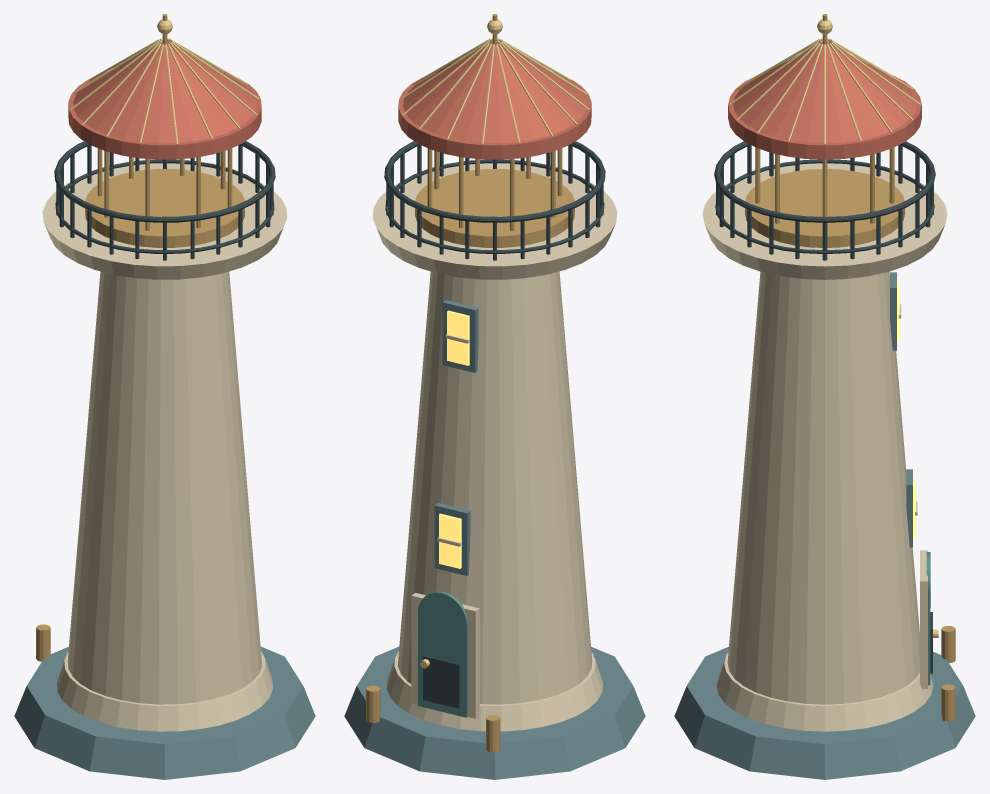
The model's file is harbor-lighthouse.glb.
3 views of the same model, side by side, from view 1: azimuth 30°, elevation 25°; view 2: azimuth 150°, elevation 25°; view 3: azimuth 270°, elevation 25° (orthographic).
Parts seen in each view (by area): view 1: lighthouse / ivory masonry, lighthouse / twelve-sided basalt plinth, lighthouse / pointed cap, lighthouse / balcony floor, lighthouse / lantern lower brass ring, lighthouse / lower skirt, lighthouse / roof overhang, lighthouse / upper balcony rail, lighthouse / lower balcony rail; view 2: lighthouse / ivory masonry, lighthouse / twelve-sided basalt plinth, lighthouse / pointed cap, lighthouse / balcony floor, lighthouse / lantern lower brass ring, lighthouse / lower skirt, lighthouse / roof overhang, lighthouse / upper balcony rail, lighthouse / door surround, lighthouse / round entrance transom, lighthouse / teal entrance, lighthouse / lower balcony rail (+7 smaller); view 3: lighthouse / ivory masonry, lighthouse / twelve-sided basalt plinth, lighthouse / pointed cap, lighthouse / balcony floor, lighthouse / lantern lower brass ring, lighthouse / lower skirt, lighthouse / roof overhang, lighthouse / upper balcony rail, lighthouse / lower balcony rail, lighthouse / door surround, lighthouse / entry bollard.001.
Boxes of the visible parts, left/top/right/bottom form: lighthouse / ivory masonry: left=67, top=271, right=262, bottom=704; lighthouse / twelve-sided basalt plinth: left=14, top=646, right=315, bottom=779; lighthouse / pointed cap: left=73, top=41, right=256, bottom=143; lighthouse / balcony floor: left=42, top=163, right=287, bottom=279; lighthouse / lantern lower brass ring: left=85, top=169, right=244, bottom=247; lighthouse / lower skirt: left=57, top=651, right=272, bottom=731; lighthouse / roof overhang: left=68, top=72, right=261, bottom=159; lighthouse / upper balcony rail: left=54, top=141, right=275, bottom=222; lighthouse / lower balcony rail: left=55, top=159, right=274, bottom=253; lighthouse / ivory masonry: left=397, top=271, right=592, bottom=704; lighthouse / twelve-sided basalt plinth: left=344, top=646, right=645, bottom=779; lighthouse / pointed cap: left=403, top=41, right=586, bottom=143; lighthouse / balcony floor: left=372, top=163, right=617, bottom=279; lighthouse / lantern lower brass ring: left=415, top=169, right=574, bottom=247; lighthouse / lower skirt: left=387, top=651, right=602, bottom=731; lighthouse / roof overhang: left=398, top=72, right=591, bottom=159; lighthouse / upper balcony rail: left=384, top=141, right=605, bottom=222; lighthouse / door surround: left=411, top=593, right=479, bottom=718; lighthouse / round entrance transom: left=417, top=591, right=467, bottom=644; lighthouse / teal entrance: left=418, top=618, right=467, bottom=717; lighthouse / lower balcony rail: left=385, top=159, right=604, bottom=253; lighthouse / ivory masonry: left=727, top=271, right=919, bottom=704; lighthouse / twelve-sided basalt plinth: left=674, top=646, right=975, bottom=779; lighthouse / pointed cap: left=733, top=41, right=916, bottom=143; lighthouse / balcony floor: left=702, top=163, right=947, bottom=279; lighthouse / lantern lower brass ring: left=745, top=169, right=904, bottom=247; lighthouse / lower skirt: left=716, top=652, right=933, bottom=731; lighthouse / roof overhang: left=728, top=75, right=921, bottom=159; lighthouse / upper balcony rail: left=714, top=141, right=935, bottom=222; lighthouse / lower balcony rail: left=715, top=159, right=934, bottom=253; lighthouse / door surround: left=920, top=550, right=927, bottom=688; lighthouse / entry bollard.001: left=941, top=684, right=955, bottom=721.
Size of the model in its own units: 3.05 by 7.83 by 3.05.
